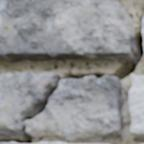brick: (0, 0, 133, 62), (129, 75, 143, 137), (39, 142, 64, 143)
broken_brick: (26, 76, 124, 140), (0, 71, 60, 136)
crack: (0, 2, 143, 143)
